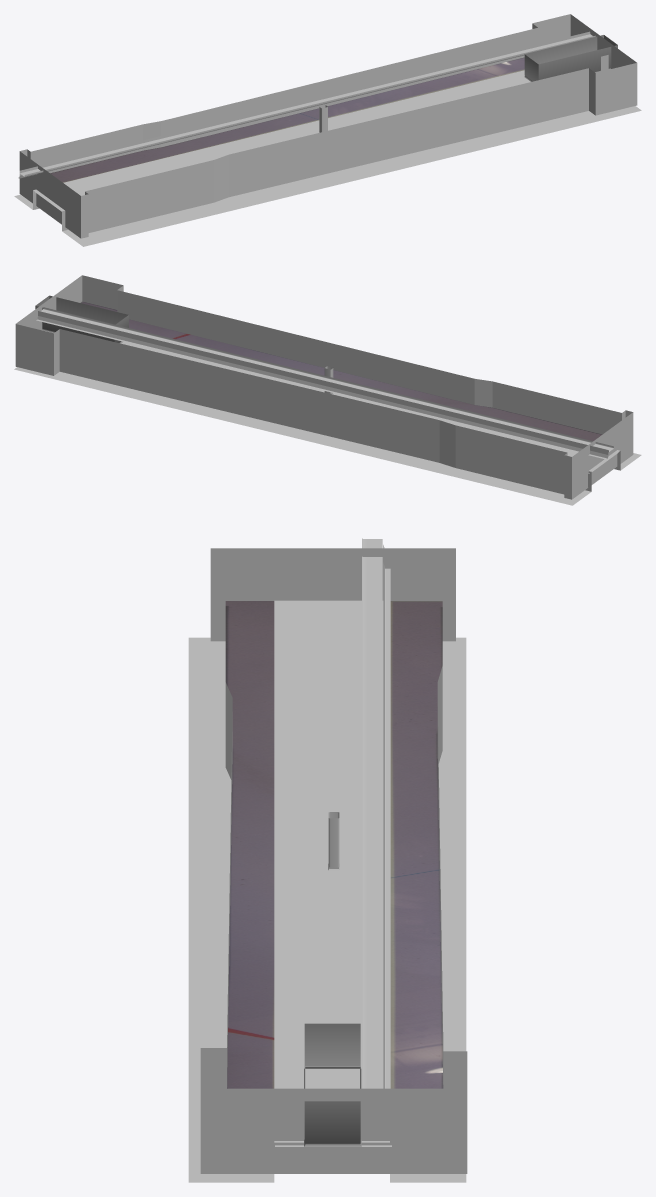
File: BackGround01.FBX
The picture shows the model from 3 angles, top to bottom: view 1: azimuth 30°, elevation 25°; view 2: azimuth 150°, elevation 25°; view 3: azimuth 270°, elevation 25°; orthographic projection. The views are drawn at different scales.
Parts seen in each view (by area): view 1: Object001, Object421, Object420, Plane002, Object388, Box097, Object226; view 2: Object001, Object226, Object421, Plane002, Object388, Box097, Object420; view 3: Plane002, Object420, Object001, Object421, Object388, Box097, Object226.
Boxes of the visible parts, left/top/right/bottom form: Object001: left=19, top=14, right=637, bottom=238; Object421: left=14, top=106, right=641, bottom=246; Object420: left=33, top=70, right=530, bottom=211; Plane002: left=50, top=57, right=524, bottom=182; Object388: left=19, top=32, right=595, bottom=176; Box097: left=524, top=35, right=617, bottom=81; Object226: left=18, top=31, right=589, bottom=178; Object001: left=15, top=275, right=633, bottom=499; Object226: left=36, top=311, right=608, bottom=459; Object421: left=14, top=367, right=641, bottom=505; Plane002: left=80, top=301, right=602, bottom=441; Object388: left=40, top=307, right=613, bottom=452; Box097: left=35, top=295, right=128, bottom=342; Object420: left=42, top=330, right=619, bottom=471; Plane002: left=225, top=601, right=443, bottom=1088; Object420: left=274, top=600, right=389, bottom=1142; Object001: left=200, top=548, right=467, bottom=1173; Object421: left=188, top=637, right=466, bottom=1182; Object388: left=362, top=538, right=382, bottom=1088; Box097: left=304, top=1023, right=360, bottom=1143; Object226: left=383, top=545, right=390, bottom=1088.
Bounding box in the file's own units: 89828 × 6840 × 18694.
